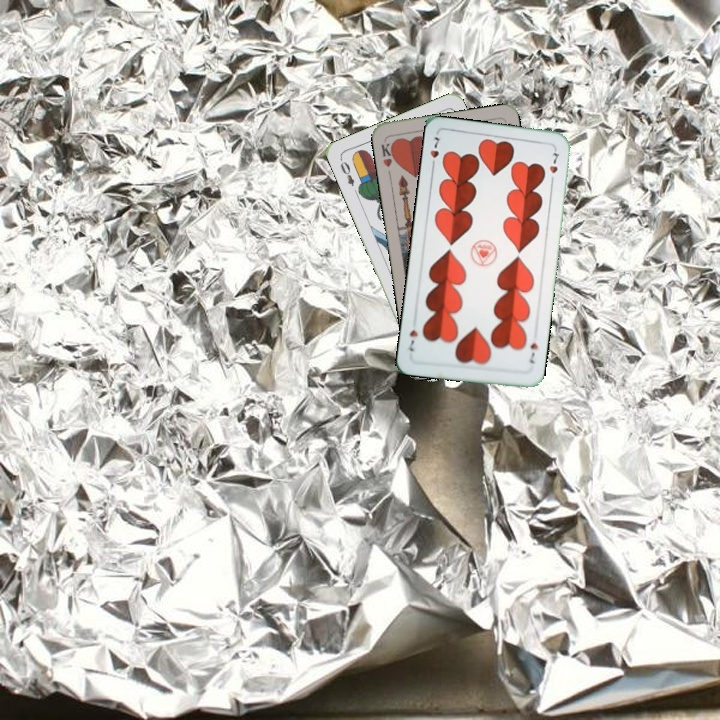EO: (336, 155, 357, 189)
H7: (426, 133, 442, 171), (526, 339, 540, 366)
HK: (377, 138, 398, 169)
